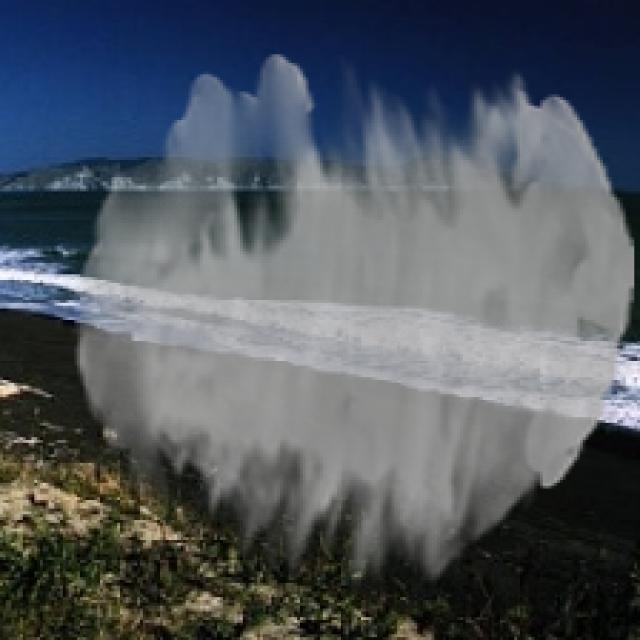smoke: (75, 54, 634, 586)
